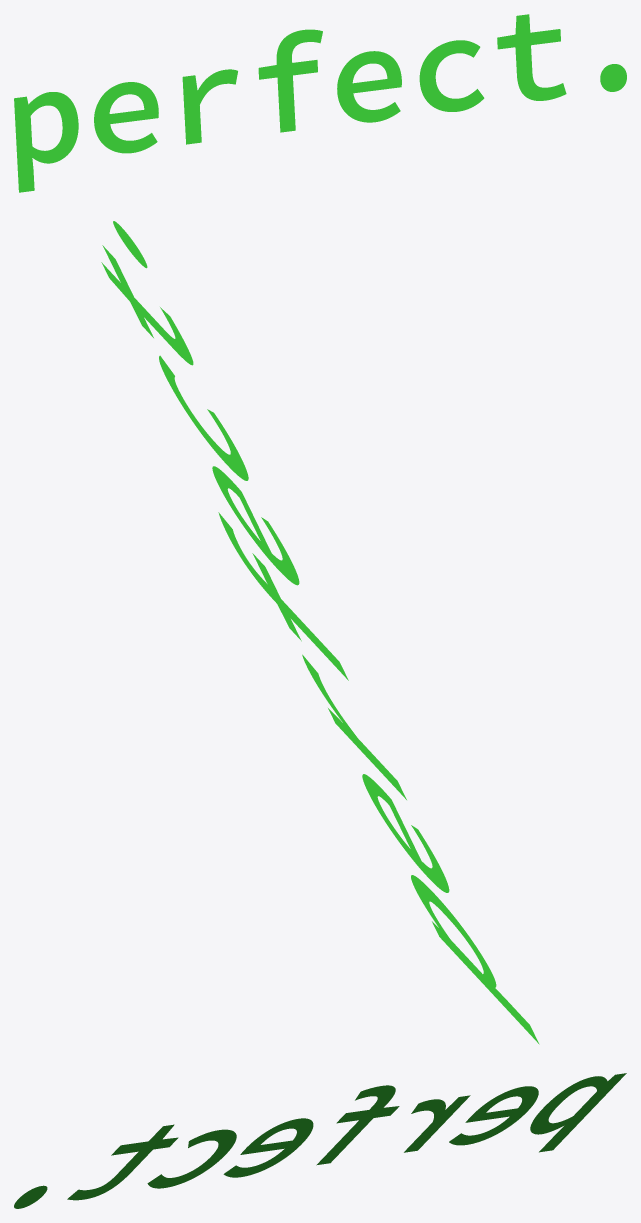
File: perfect.glb
The picture shows the model from 3 angles, top to bottom: view 1: azimuth 30°, elevation 25°; view 2: azimuth 150°, elevation 25°; view 3: azimuth 270°, elevation 25°; orthographic projection. The views are drawn at different scales.
Parts seen in each view (by area): view 1: Text; view 2: Text; view 3: Text.
Boxes of the visible parts, x1,y1,x2,y2 form: Text: (14,14,626,192); Text: (101,221,539,1044); Text: (14,1073,626,1208).
Bounding box in the file's own units: 2.65 × 1.21 × 2.56.
